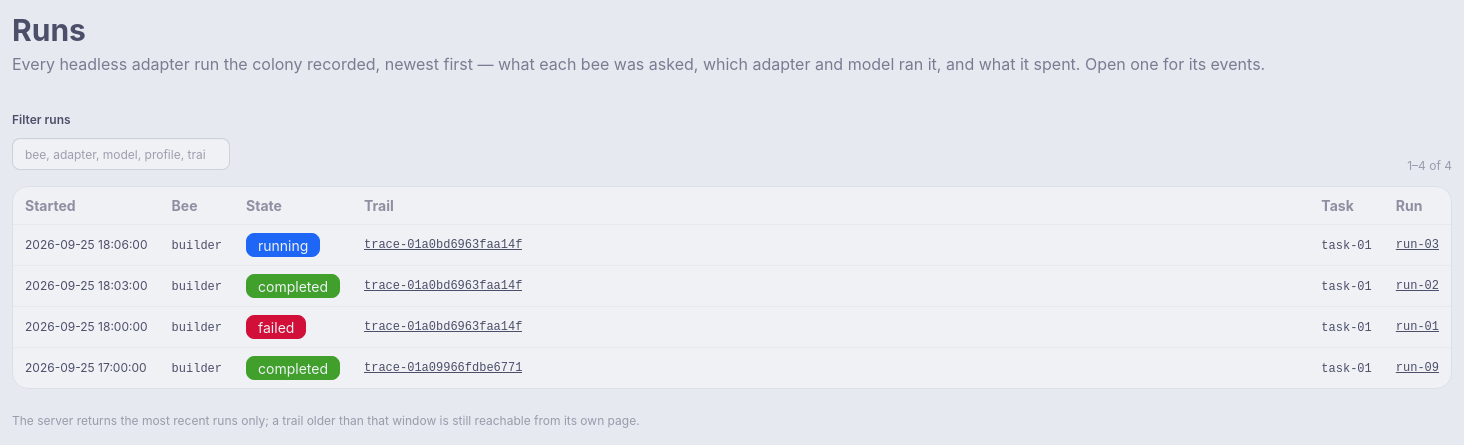
Test: runs list › filters on a hidden term, the adapter being the one that is not a column
Type "claude-code" into the search field labelled "Filter runs" at (121, 154), box [12,138,230,170]
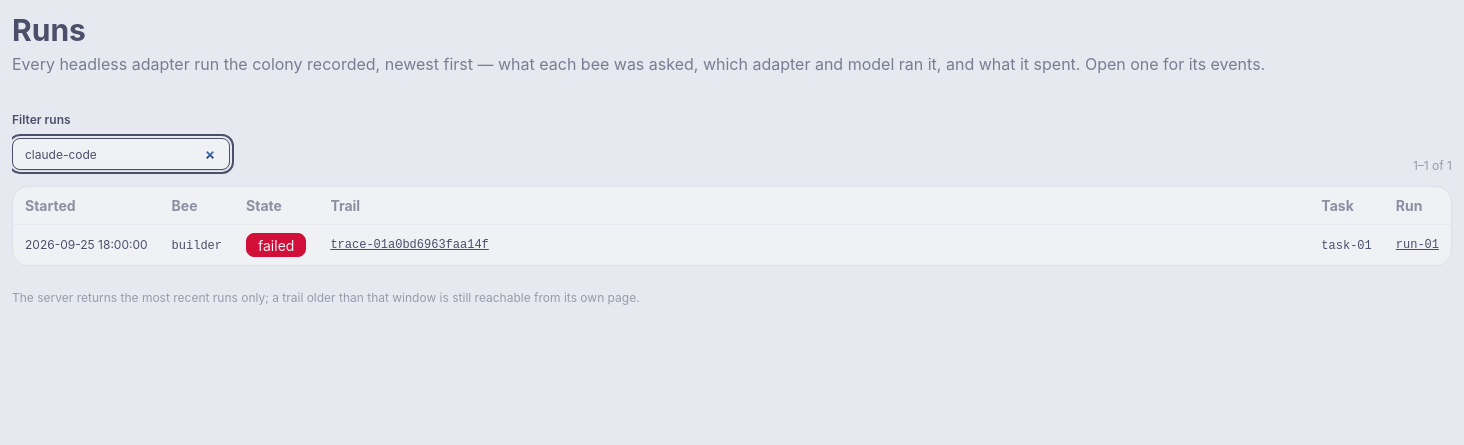
Check: the link "run-01" is shown, box [1396,236,1439,254]
Check: the link "run-02" is gone
